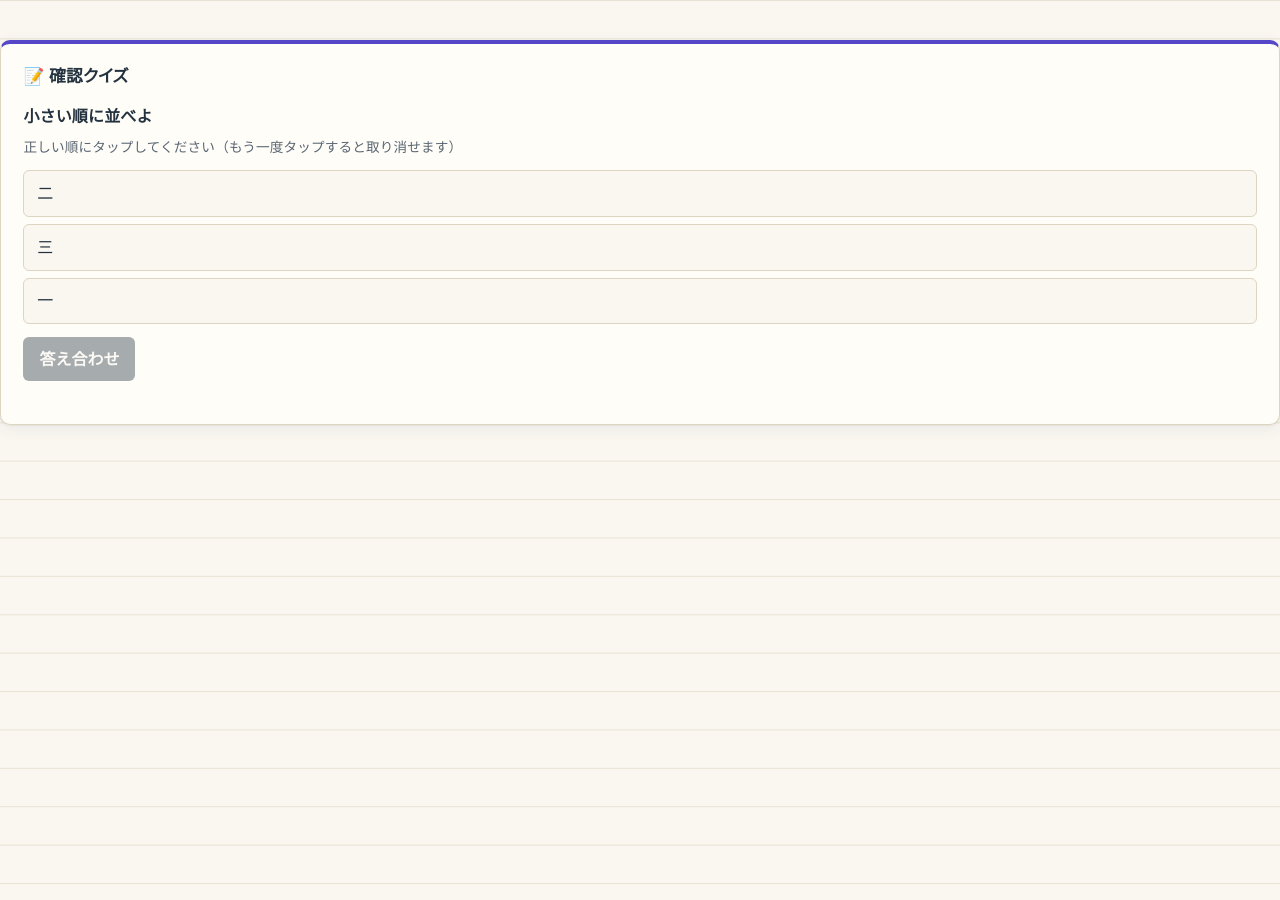
Scenario: QuizBlock › ordering: picking in the right order from the displayed (shuffled) order is correct
The width and height of the screenshot is (1280, 900).
What coordinates should you click on to do the following:
click the button "一"
I would click on:
 (45, 300)
Its box is [23,278,1257,324].
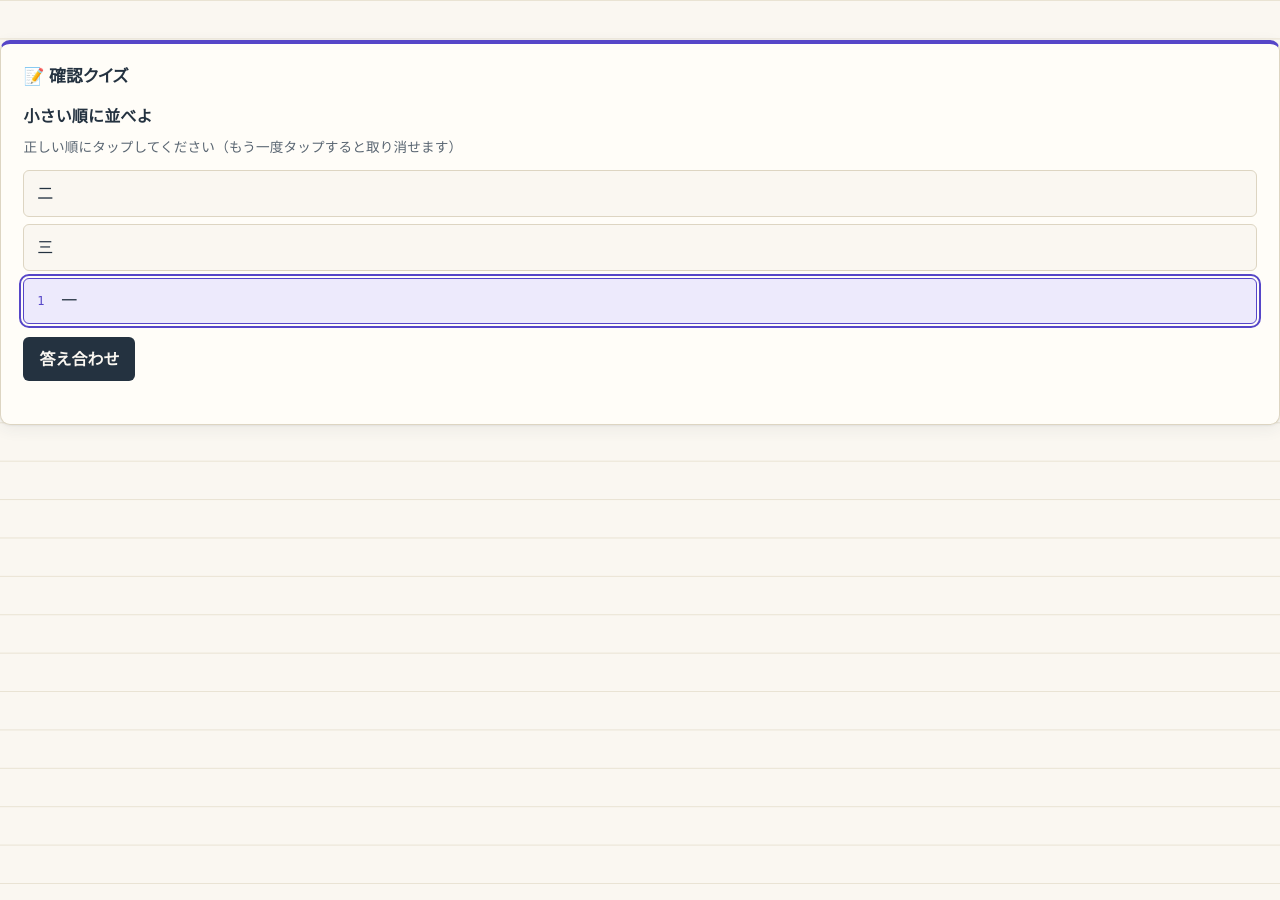
What coordinates should you click on to do the following:
click the button "二"
I would click on:
 (45, 193)
Its box is [23,170,1257,217].
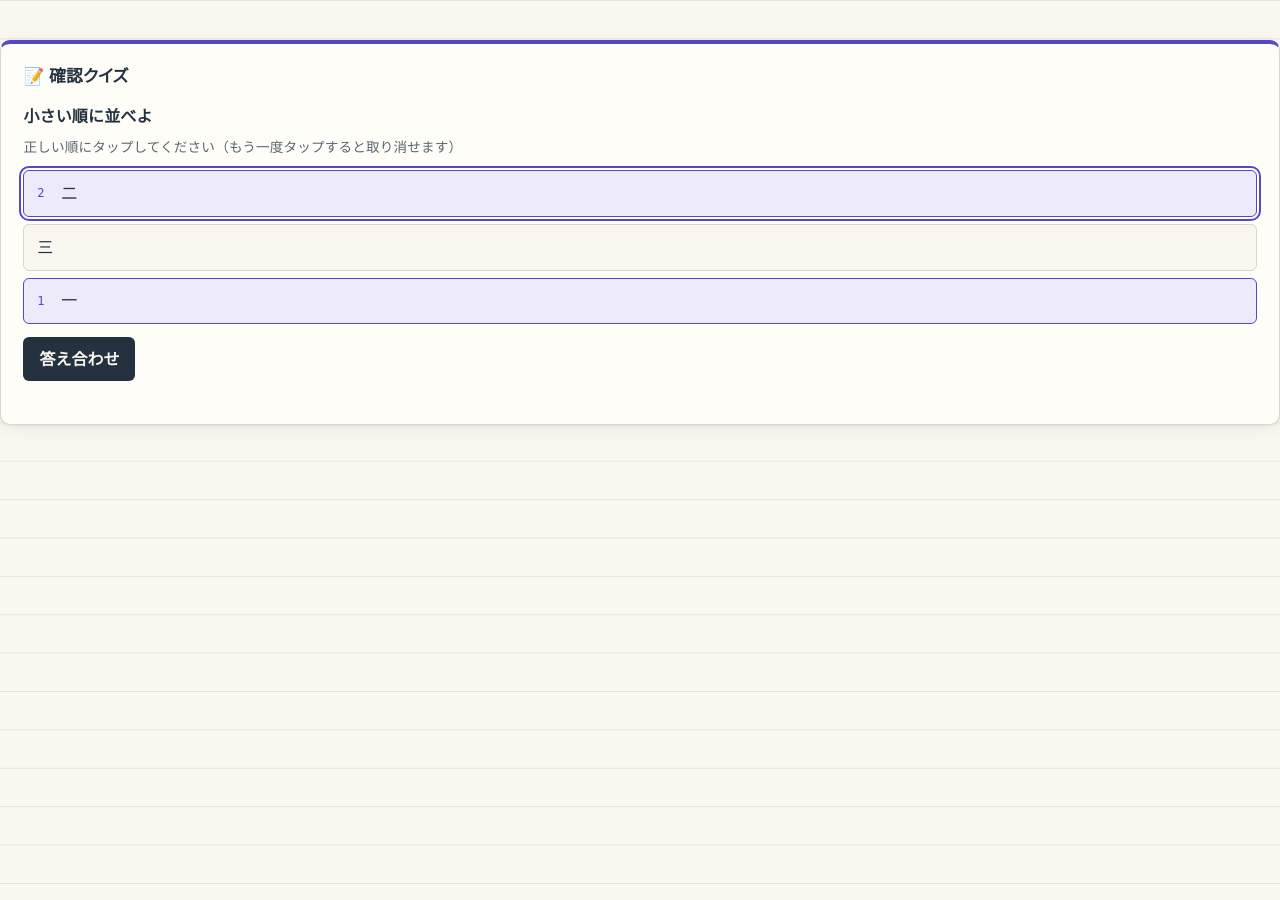
What coordinates should you click on to do the following:
click the button "三"
I would click on:
 (45, 247)
Its box is [23,224,1257,270].
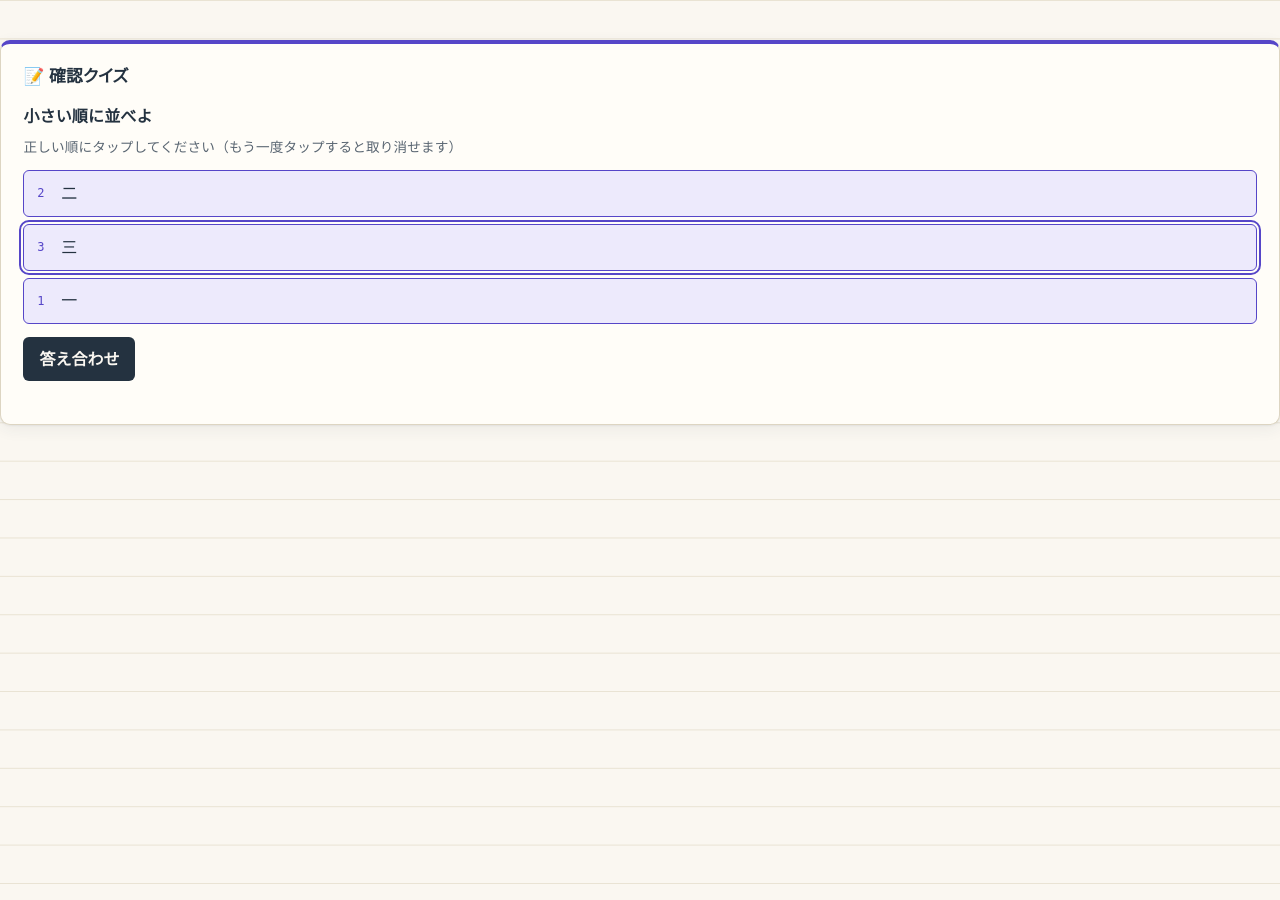
What coordinates should you click on to do the following:
click the button "答え合わせ"
I would click on:
 (79, 359)
Its box is [23,337,135,381].
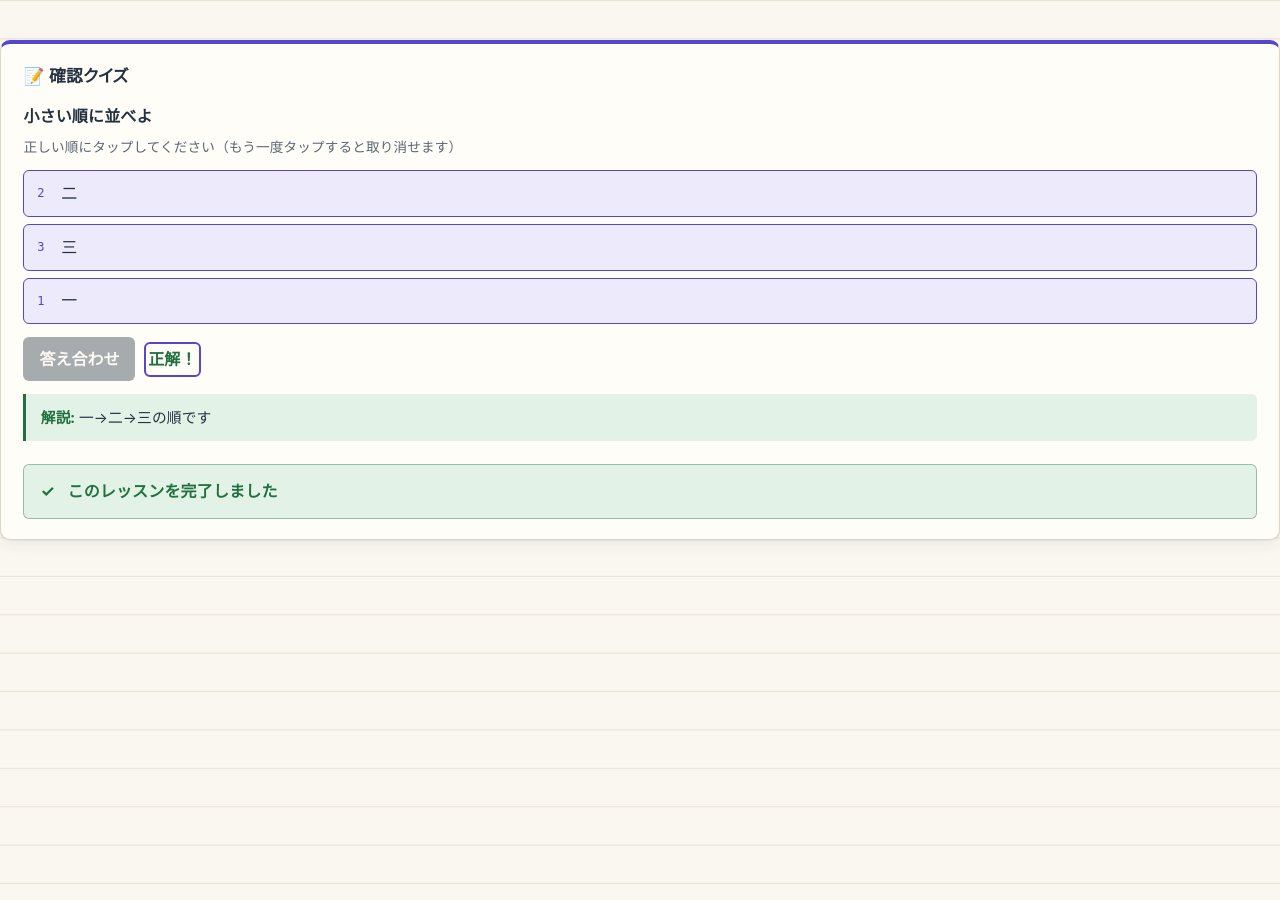
Check: the text "正解！" is shown, box [148,346,197,373]
